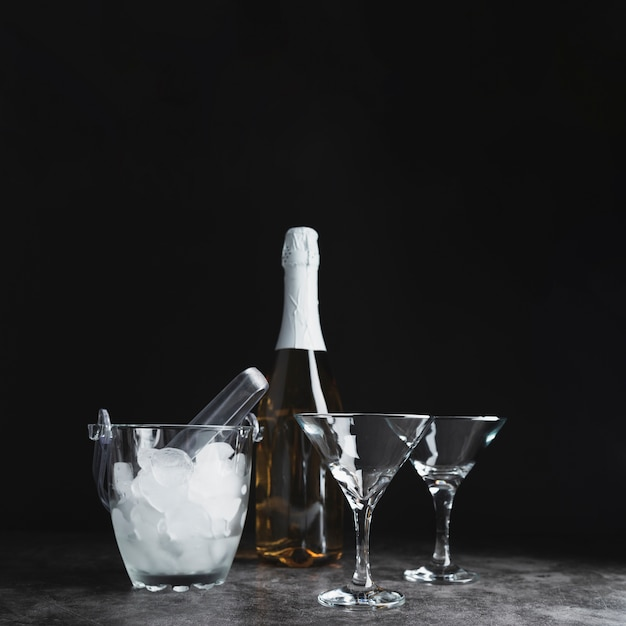alcohol: (253, 227, 354, 568)
